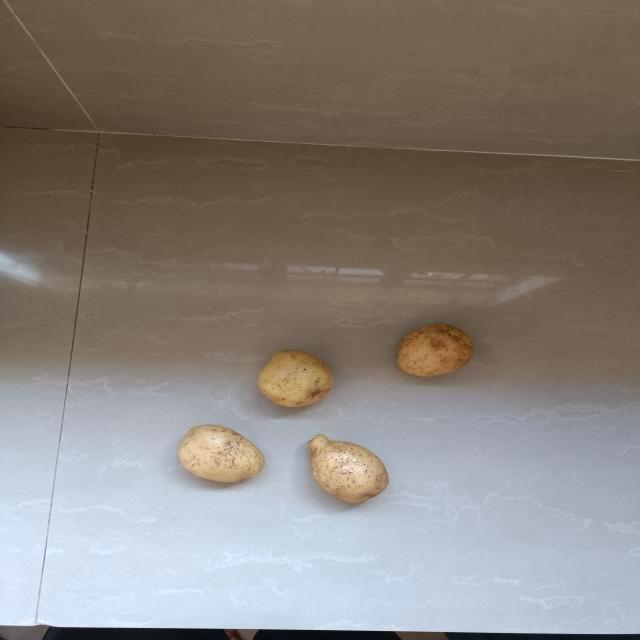potato: (304, 431, 394, 508), (175, 422, 268, 486), (393, 318, 481, 383), (256, 349, 341, 409)
